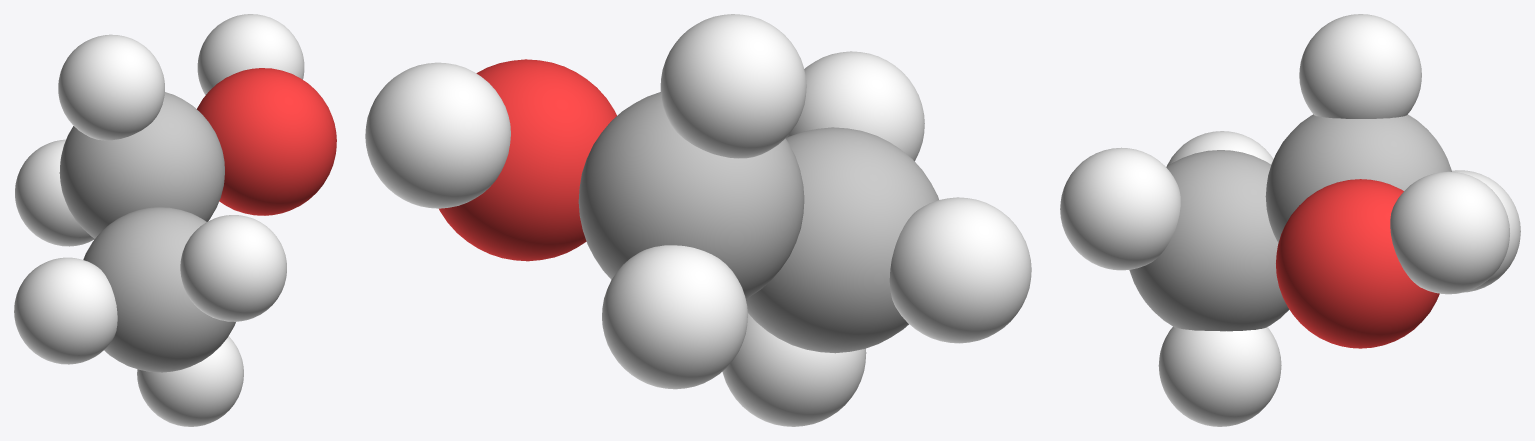
File: ethanol.glb
The picture shows the model from 3 angles, left to right: view 1: azimuth 30°, elevation 25°; view 2: azimuth 150°, elevation 25°; view 3: azimuth 270°, elevation 25°; orthographic projection. The views are drawn at different scales.
Visible parts, largest first — view 1: O_Atom, C1_Atom, C2_Atom, HD_Atom, HA_Atom, HF_Atom, HE_Atom, HC_Atom, HB_Atom; view 2: C1_Atom, C2_Atom, O_Atom, HC_Atom, HB_Atom, HA_Atom, HF_Atom, HE_Atom, HD_Atom; view 3: C2_Atom, O_Atom, C1_Atom, HD_Atom, HC_Atom, HA_Atom, HE_Atom, HF_Atom, HB_Atom.
Boxes of the visible parts, box(x1,y1,x2,y2) form: O_Atom: box(197, 68, 336, 215); C1_Atom: box(59, 92, 224, 238); C2_Atom: box(83, 207, 235, 372); HD_Atom: box(180, 215, 286, 321); HA_Atom: box(58, 34, 164, 140); HF_Atom: box(14, 257, 117, 364); HE_Atom: box(137, 336, 243, 426); HC_Atom: box(197, 14, 304, 95); HB_Atom: box(15, 139, 94, 246); C1_Atom: box(578, 92, 804, 298); C2_Atom: box(746, 127, 938, 353); O_Atom: box(439, 59, 616, 261); HC_Atom: box(365, 62, 510, 208); HB_Atom: box(602, 245, 747, 389); HA_Atom: box(660, 14, 806, 158); HF_Atom: box(889, 197, 1031, 343); HE_Atom: box(722, 313, 866, 426); HD_Atom: box(786, 51, 924, 161); C2_Atom: box(1129, 150, 1289, 331); O_Atom: box(1276, 179, 1439, 348); C1_Atom: box(1265, 114, 1451, 242); HD_Atom: box(1060, 147, 1180, 270); HC_Atom: box(1390, 171, 1509, 294); HA_Atom: box(1299, 14, 1421, 118); HE_Atom: box(1158, 326, 1281, 426); HF_Atom: box(1166, 131, 1273, 166); HB_Atom: box(1452, 170, 1520, 292).
Size of the model in its own units: 4.45 by 3.87 by 4.13.
